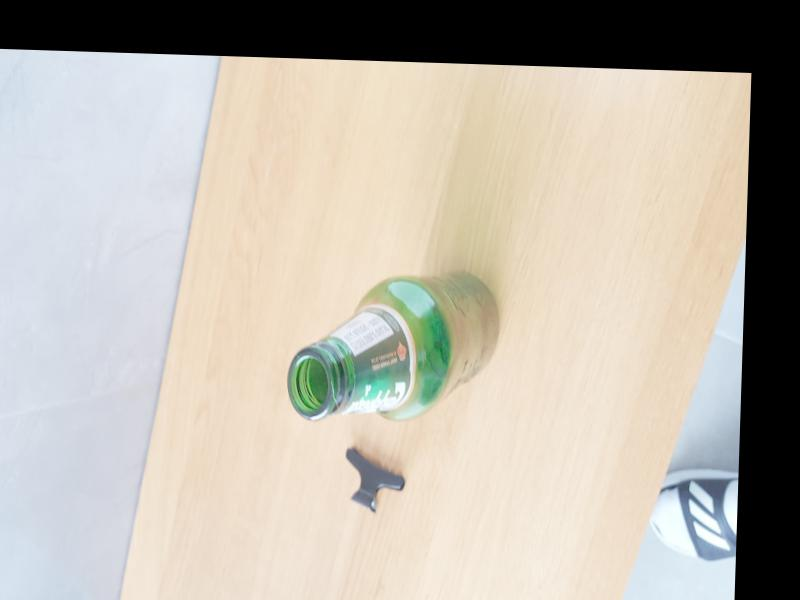Beer: (286, 265, 503, 427)
